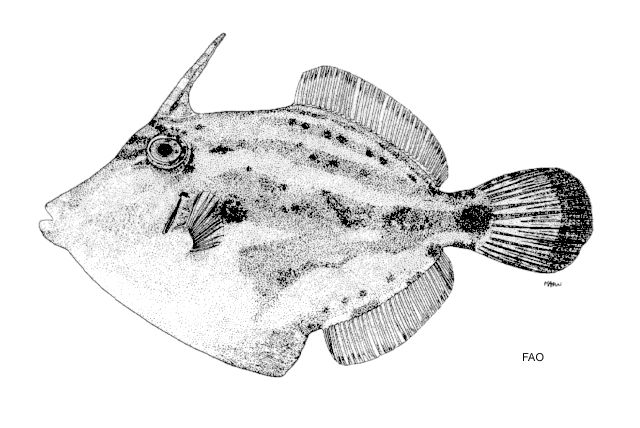fish: (38, 32, 593, 379)
